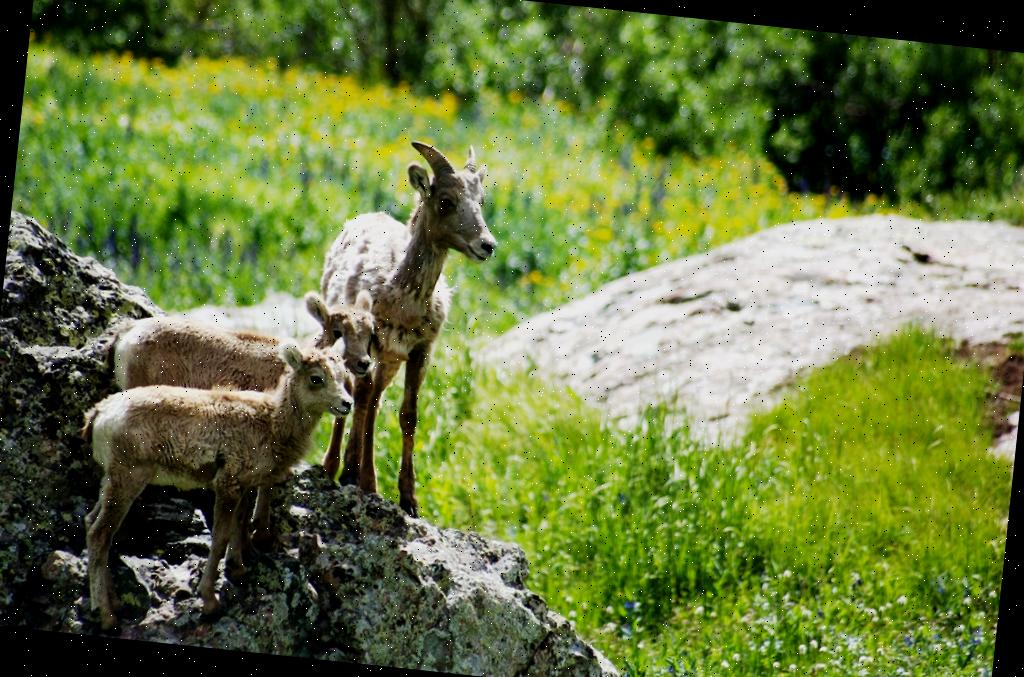Sheep: (58, 313, 358, 656), (82, 271, 382, 566), (296, 131, 505, 523)
